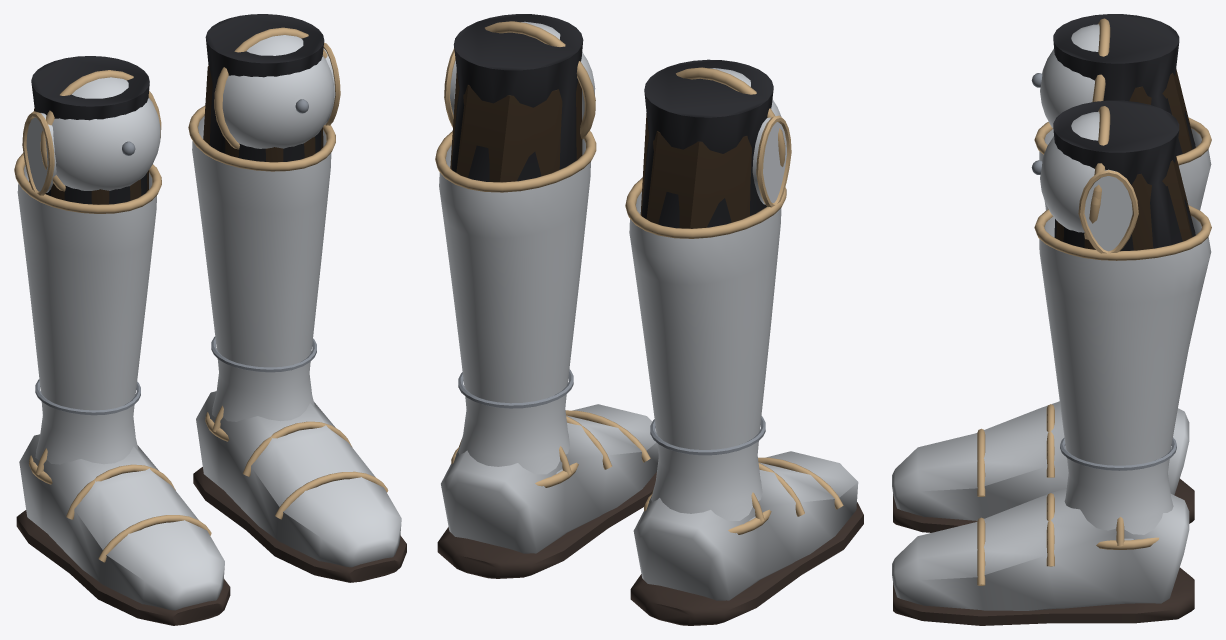
File: f_ironplate_f.glb
The picture shows the model from 3 angles, left to right: view 1: azimuth 30°, elevation 25°; view 2: azimuth 150°, elevation 25°; view 3: azimuth 270°, elevation 25°; orthographic projection. The views are drawn at different scales.
Parts seen in each view (by area): view 1: LegR_Boot, LegL_Boot, LegR_BootFoot, LegL_BootFoot, LegL_Shin, LegR_Shin; view 2: LegR_Boot, LegL_Boot, LegR_BootFoot, LegL_BootFoot, LegL_Shin, LegR_Shin; view 3: LegL_Boot, LegL_BootFoot, LegR_BootFoot, LegR_Boot, LegL_Shin, LegR_Shin.
Boxes of the visible parts, box(x1,y1,x2,y2) form: LegR_Boot: box(14, 56, 161, 484); LegL_Boot: box(188, 14, 340, 441); LegR_BootFoot: box(16, 434, 230, 625); LegL_BootFoot: box(193, 391, 406, 582); LegL_Shin: box(203, 65, 323, 162); LegR_Shin: box(29, 108, 148, 204); LegR_Boot: box(625, 59, 791, 534); LegL_Boot: box(435, 14, 596, 487); LegR_BootFoot: box(630, 451, 863, 625); LegL_BootFoot: box(437, 404, 658, 578); LegL_Shin: box(450, 69, 582, 182); LegR_Shin: box(640, 113, 766, 228); LegL_Boot: box(1031, 100, 1211, 549); LegL_BootFoot: box(892, 487, 1194, 625); LegR_BootFoot: box(892, 401, 1194, 532); LegR_Boot: box(1031, 14, 1211, 210); LegL_Shin: box(1056, 156, 1195, 250); LegR_Shin: box(1129, 69, 1195, 153).
Bounding box in the file's own units: 0.3589 × 0.554 × 0.3261.
